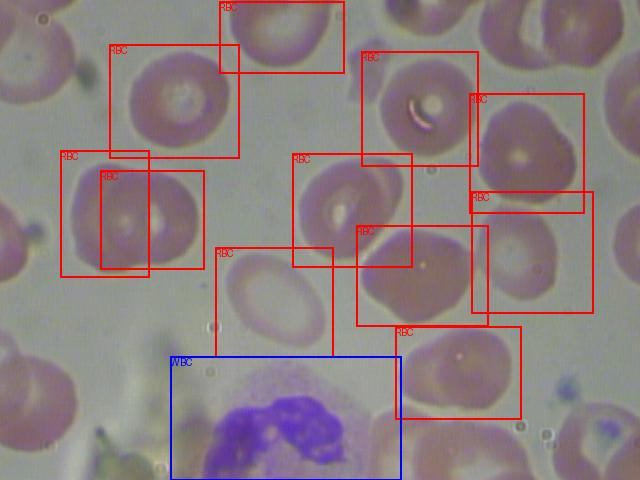RBC: (471, 191, 593, 313), (109, 44, 239, 158), (469, 93, 584, 213), (292, 153, 412, 267), (361, 51, 478, 166), (356, 225, 488, 326), (215, 247, 333, 357), (395, 326, 521, 419), (60, 150, 149, 277), (100, 170, 204, 269), (219, 1, 344, 73)
WBC: (170, 356, 401, 480)
